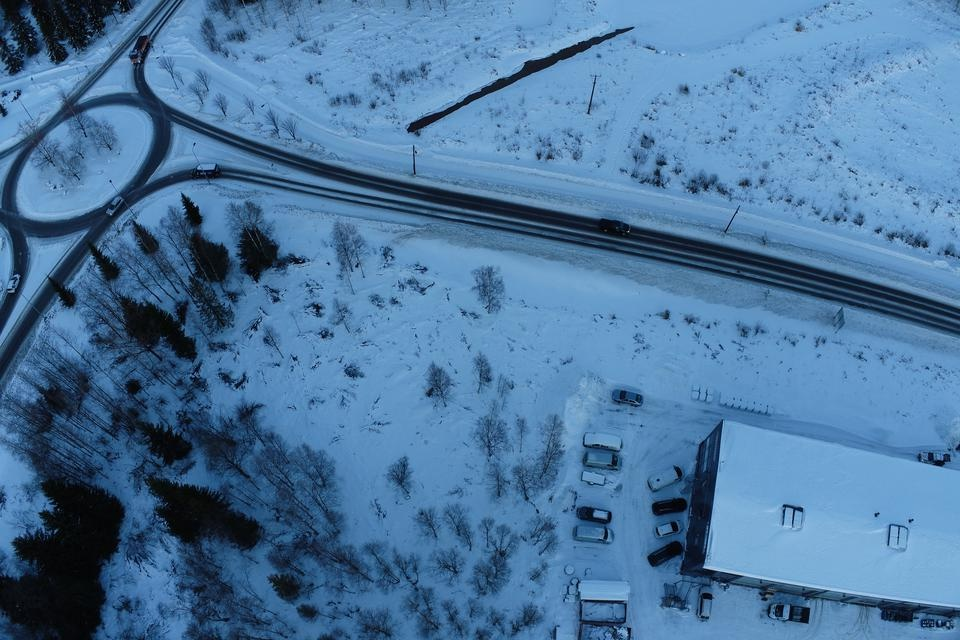roundabout: (0, 67, 193, 271)
